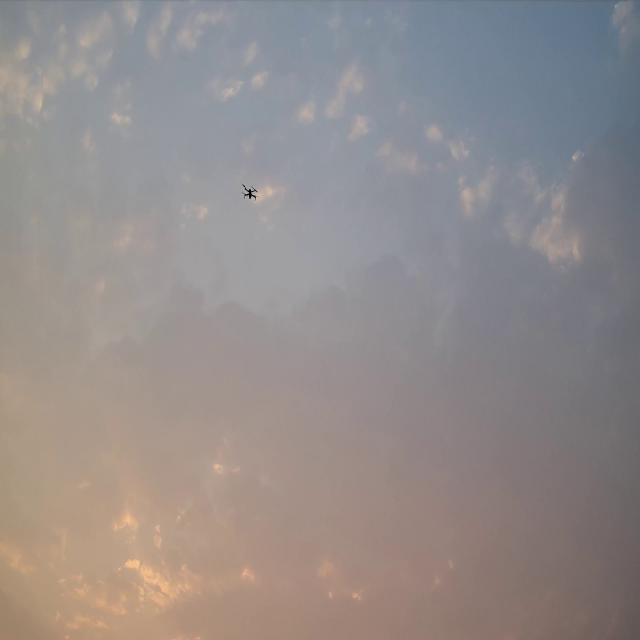UAV: (241, 183, 259, 201)
